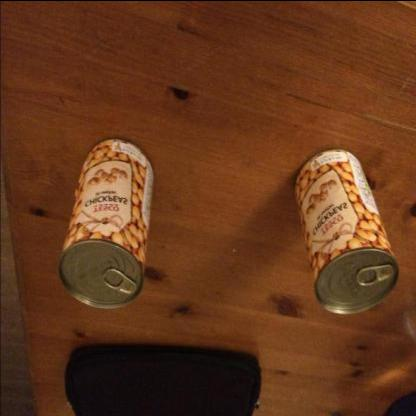Can: (294, 147, 398, 314), (58, 139, 154, 307)
Pop tab: (102, 268, 136, 294), (356, 264, 393, 286)
